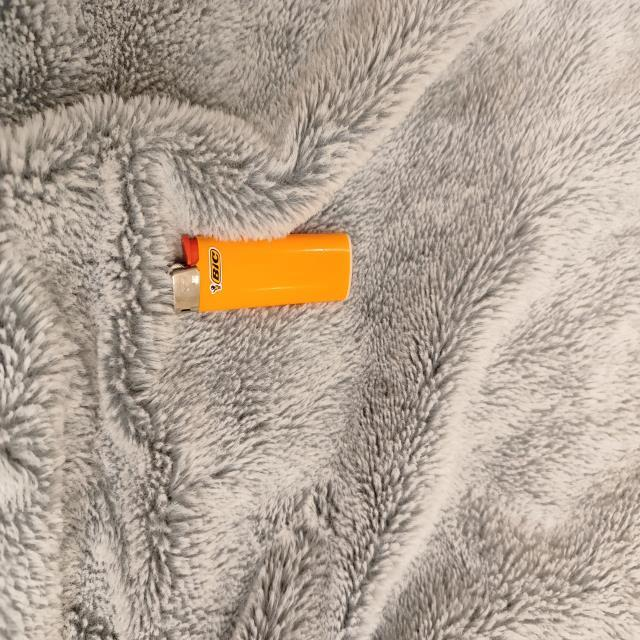lighter: (171, 233, 351, 311)
